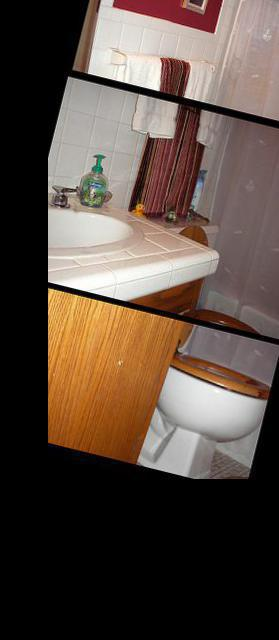Ducha: (115, 0, 279, 473)
Lavamanos: (13, 160, 160, 314)
